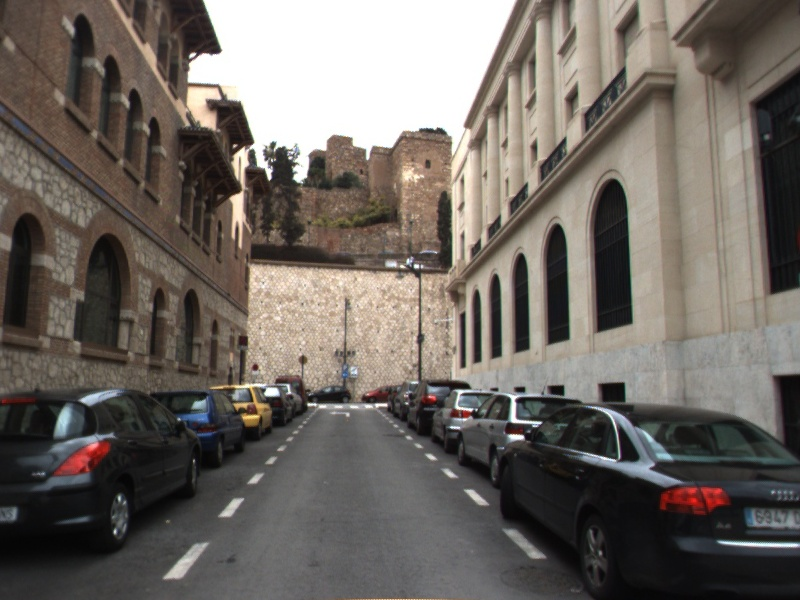LEFT: (327, 408, 352, 419)
